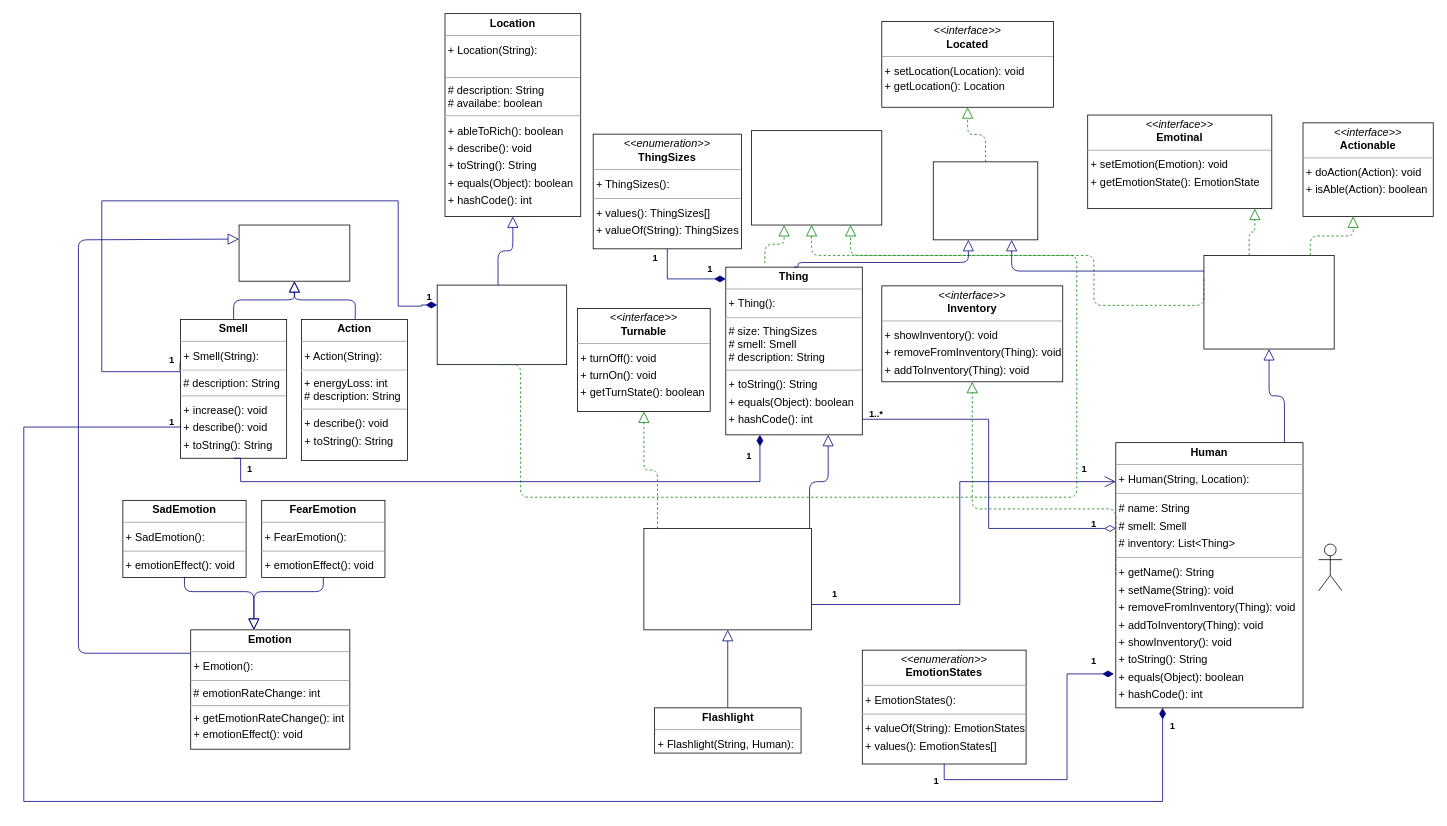
This 1447x826 diagram has some shape labels left out. The centre of each missing label's shape, as x and y in pixels:
"<<interface>> Smelling + setSmell(Smell): void + getSmell(): Smell" belongs at (x=816, y=177).
"Actor" belongs at (x=1330, y=567).
"Animal + Animal(): # emotionRate: int # energyRate: int" belongs at (x=1268, y=302).
"Device + Device(String, Human): # turnState: boolean # owner: Human" belongs at (x=727, y=579).
"Entity + Entity(): # location: Location" belongs at (x=985, y=200).
"Inmaterial + Inmaterial():" belongs at (x=294, y=252).
"SmallLocation + SmallLocation(String): # smell: Smell" belongs at (x=501, y=324).
